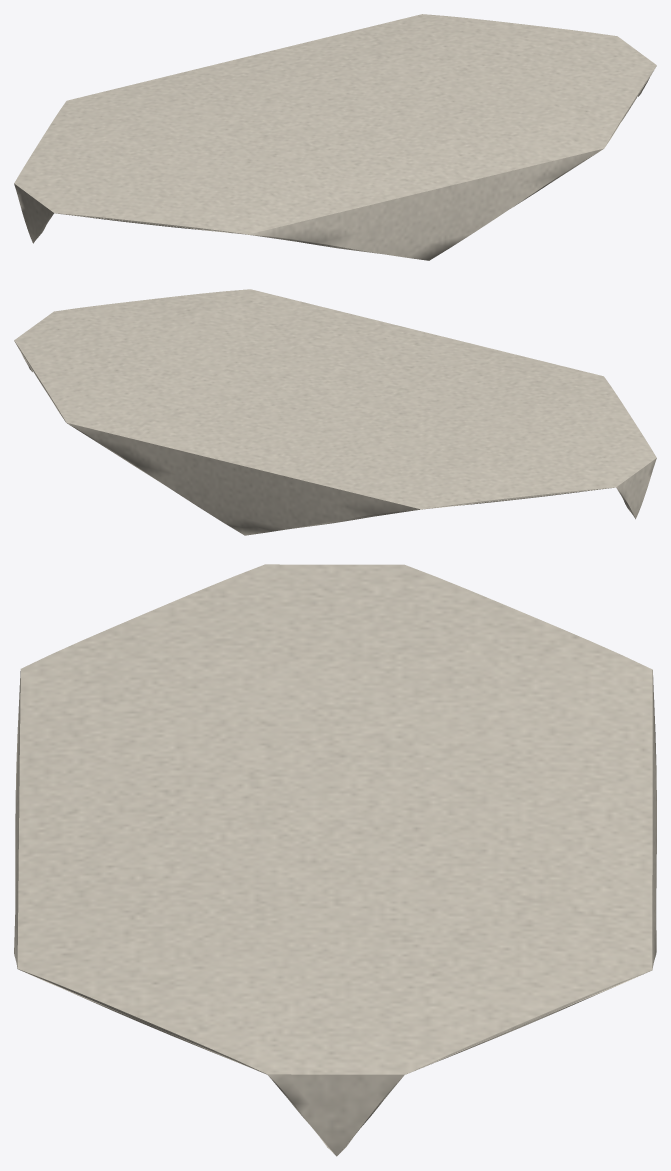
The model's file is Tischdecke.fbx.
3 views of the same model, one above another, from view 1: azimuth 30°, elevation 25°; view 2: azimuth 150°, elevation 25°; view 3: azimuth 270°, elevation 25° (orthographic). The views are drawn at different scales.
Parts seen in each view (by area): view 1: Tischdecke_1; view 2: Tischdecke_1; view 3: Tischdecke_1.
Boxes of the visible parts, <box> form: Tischdecke_1: <box>14,14,656,260</box>; Tischdecke_1: <box>14,289,656,535</box>; Tischdecke_1: <box>14,564,656,1156</box>.
Size of the model in its own units: 269 by 31.02 by 143.
1 material, 1 textured.
